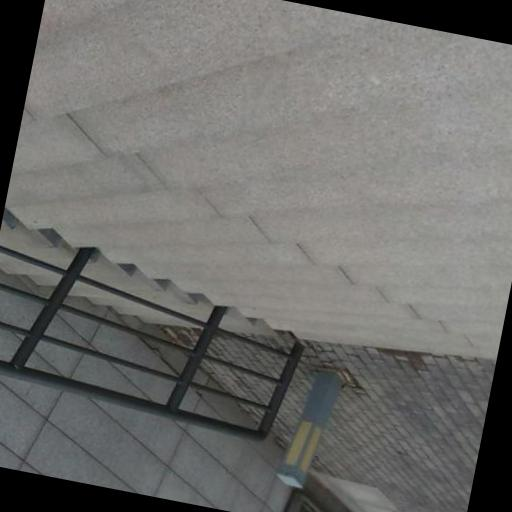stairs: (5, 0, 511, 357), (82, 252, 211, 320)
